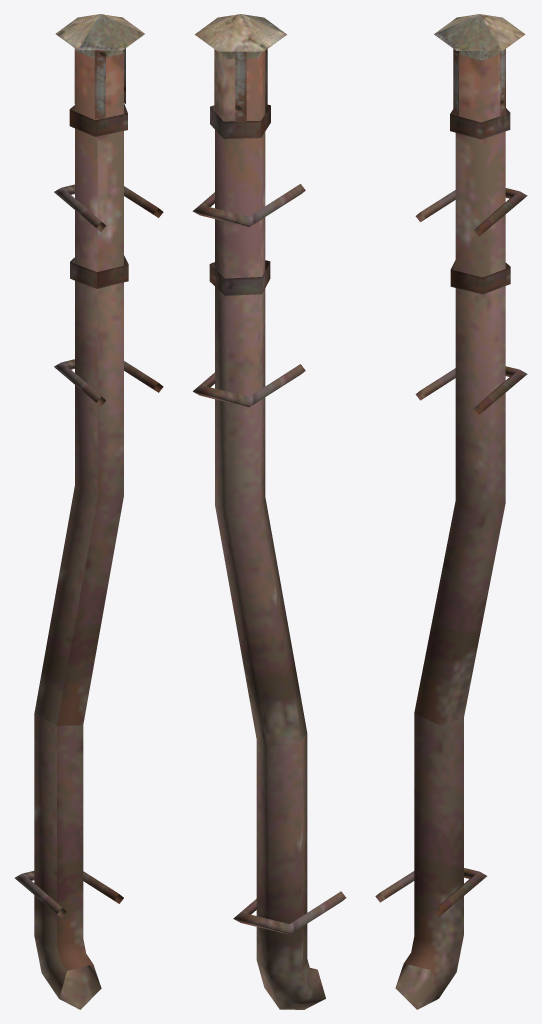
The model's file is Pipe_out2.fbx.
3 views of the same model, side by side, from view 1: azimuth 30°, elevation 25°; view 2: azimuth 150°, elevation 25°; view 3: azimuth 330°, elevation 25° (orthographic). The views are drawn at different scales.
Visible parts, largest first — view 1: Pipe_out2; view 2: Pipe_out2; view 3: Pipe_out2.
Boxes of the visible parts, x1,y1,x2,y2 form: Pipe_out2: (15,14,163,1009); Pipe_out2: (192,14,346,1009); Pipe_out2: (375,14,527,1009).
Size of the model in its own units: 46.21 by 402 by 39.14.
